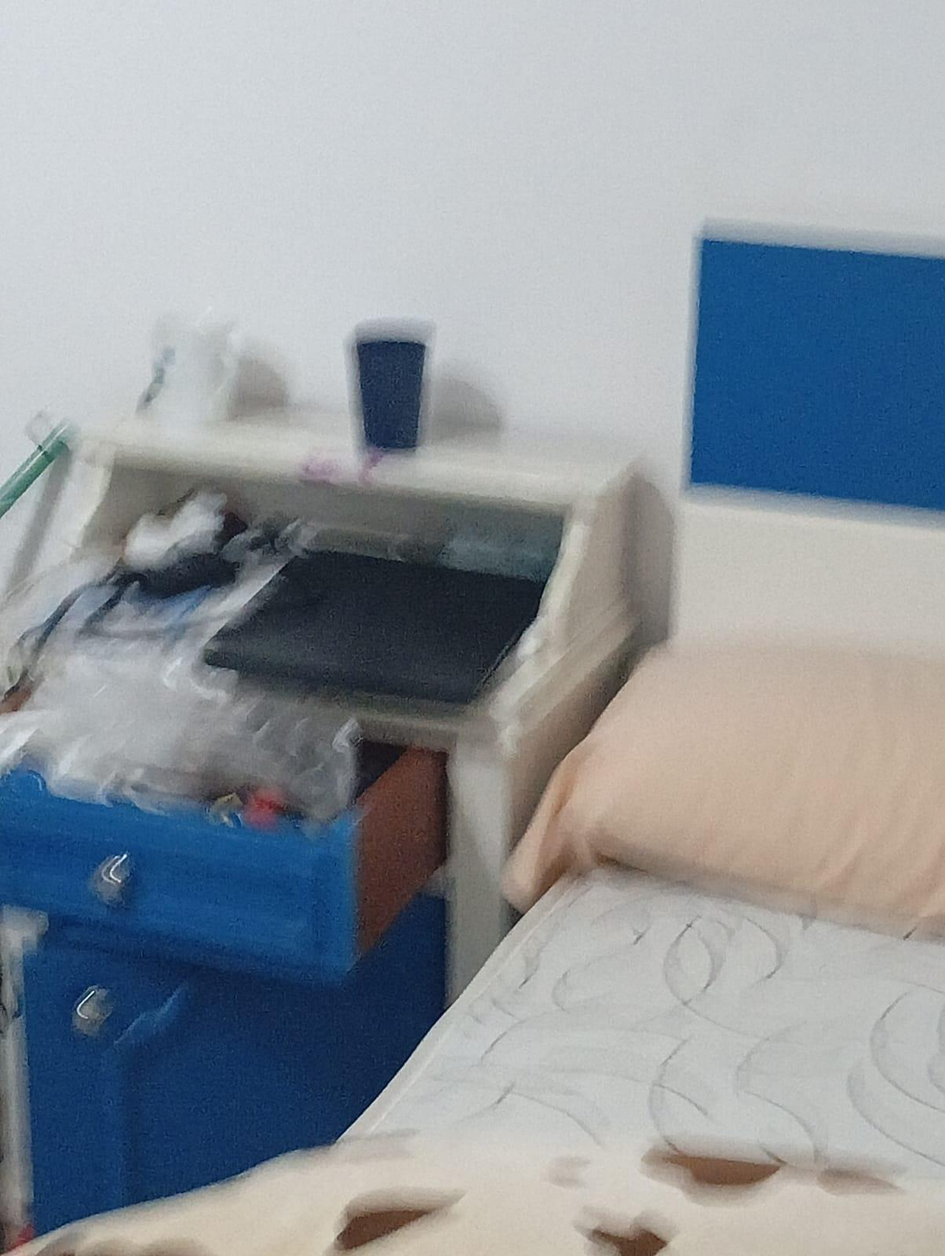cup: (137, 316, 236, 433), (355, 337, 425, 451)
